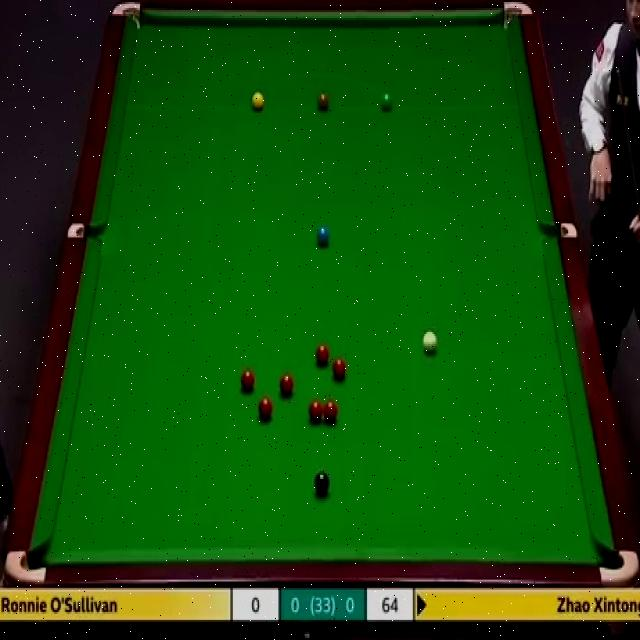black-ball: (314, 471, 331, 493)
blue-ball: (318, 226, 330, 246)
brown-ball: (316, 91, 329, 110)
green-ball: (380, 93, 394, 111)
red-ball: (331, 356, 347, 382), (278, 371, 294, 397), (307, 399, 324, 423), (239, 368, 255, 391), (258, 398, 274, 420), (324, 399, 338, 423), (315, 344, 330, 365)
white-ball: (422, 331, 438, 354)
yellow-ball: (253, 90, 264, 109)
